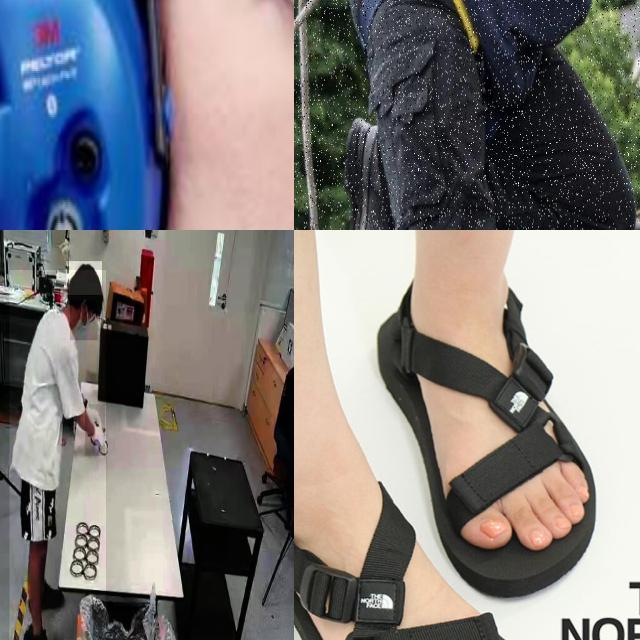Ear-protection: (0, 0, 294, 230)
Sandals: (294, 263, 640, 640)
face_mask: (70, 300, 98, 340)
hand_glove: (85, 404, 105, 456)
head_nohelmet: (66, 261, 102, 296)
person: (9, 270, 106, 640)
shoes: (24, 577, 68, 615), (18, 619, 61, 640)
